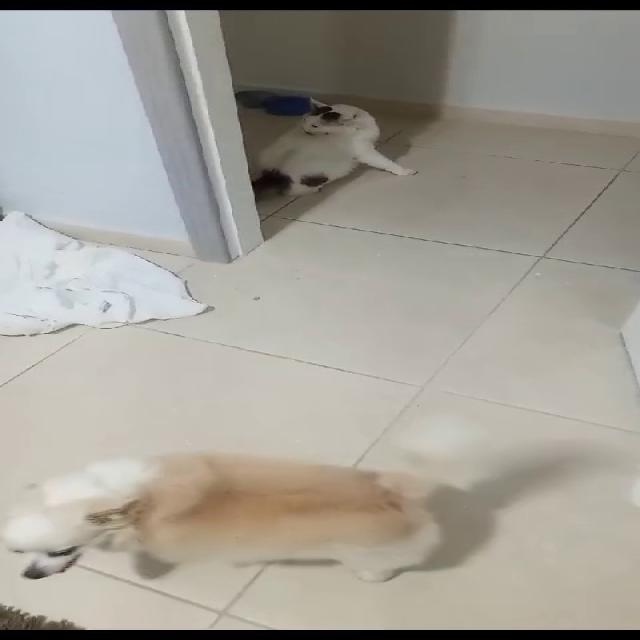Simba: (246, 89, 386, 204)
